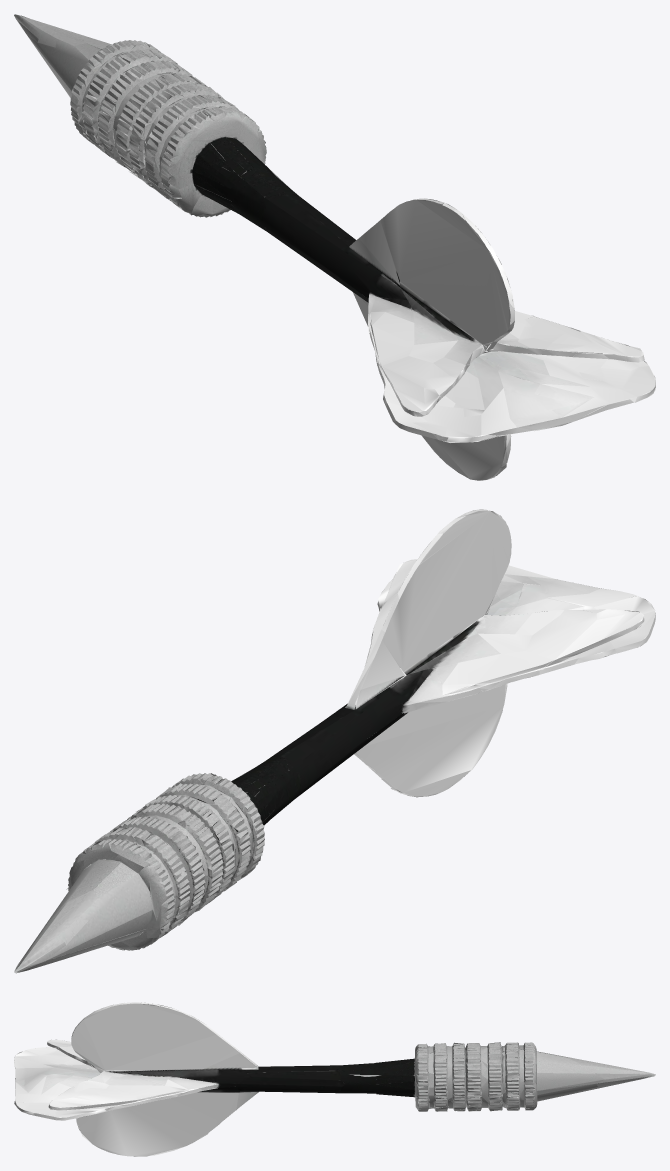
File: dart-steel.glb
3 renders of one model, top to bottom at view 1: azimuth 30°, elevation 25°; view 2: azimuth 150°, elevation 25°; view 3: azimuth 270°, elevation 25°, orthographic. The views are drawn at different scales.
Parts seen in each view (by area): view 1: dart; view 2: dart; view 3: dart.
Boxes of the visible parts, x1,y1,x2,y2 form: dart: (14, 14, 655, 480); dart: (14, 509, 655, 973); dart: (14, 1002, 655, 1156).
Bounding box in the file's own units: 0.0409 × 0.0408 × 0.155.
2 materials, 1 textured.
